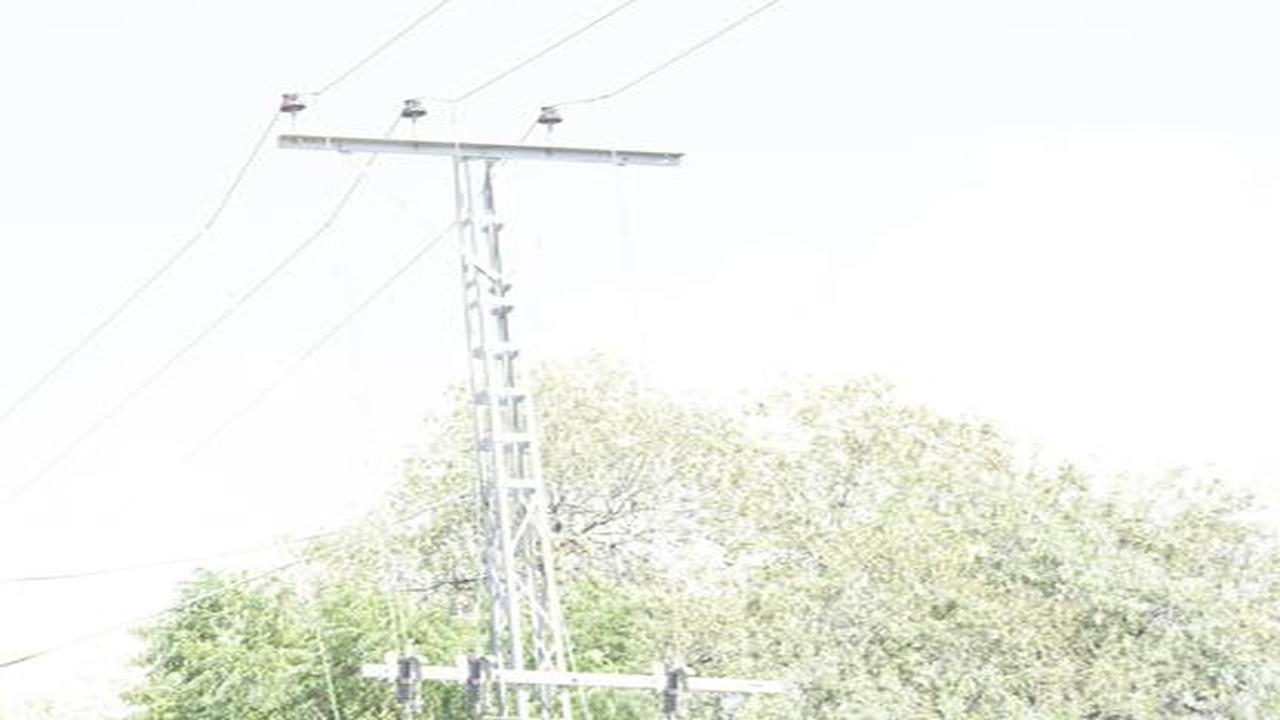insulator_pin: (530, 105, 569, 134), (275, 88, 309, 120), (396, 99, 433, 123)
